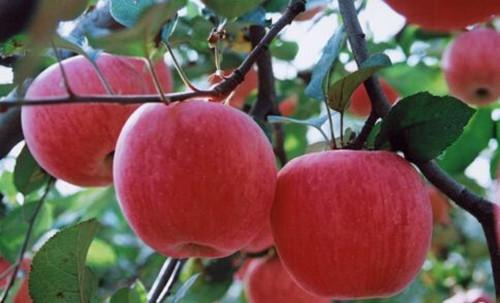apple: (93, 105, 288, 255), (268, 152, 433, 297), (20, 49, 176, 189)
